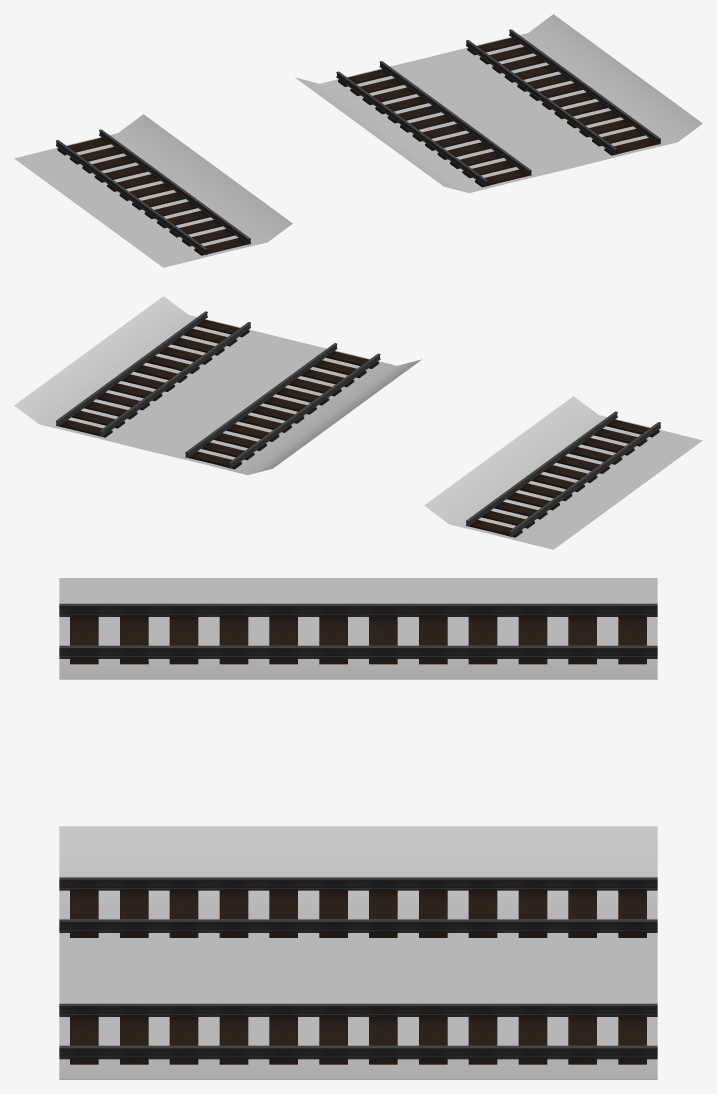
Rendered from railtrack.fbx.
3 views of the same model, one above another, from view 1: azimuth 30°, elevation 25°; view 2: azimuth 150°, elevation 25°; view 3: azimuth 270°, elevation 25° (orthographic). The views are drawn at different scales.
Parts seen in each view (by area): view 1: pPlane1, pPlane16, polySurface38, polySurface36, polySurface39; view 2: pPlane1, pPlane16, polySurface38, polySurface36, polySurface39; view 3: pPlane1, pPlane16, polySurface39, polySurface36, polySurface38.
Boxes of the visible parts, bbox=[...] form: pPlane1: bbox=[295, 14, 702, 193]; pPlane16: bbox=[14, 114, 292, 267]; polySurface38: bbox=[336, 61, 531, 187]; polySurface36: bbox=[56, 129, 250, 255]; polySurface39: bbox=[466, 29, 660, 155]; pPlane1: bbox=[14, 296, 421, 475]; pPlane16: bbox=[424, 396, 702, 549]; polySurface38: bbox=[185, 343, 380, 469]; polySurface36: bbox=[466, 411, 660, 537]; polySurface39: bbox=[56, 311, 250, 437]; pPlane1: bbox=[59, 826, 657, 1079]; pPlane16: bbox=[59, 578, 657, 679]; polySurface39: bbox=[59, 1003, 657, 1064]; polySurface36: bbox=[59, 603, 657, 664]; polySurface38: bbox=[59, 877, 657, 937].
Bounding box in the file's own units: 50 × 1.13 × 24.
